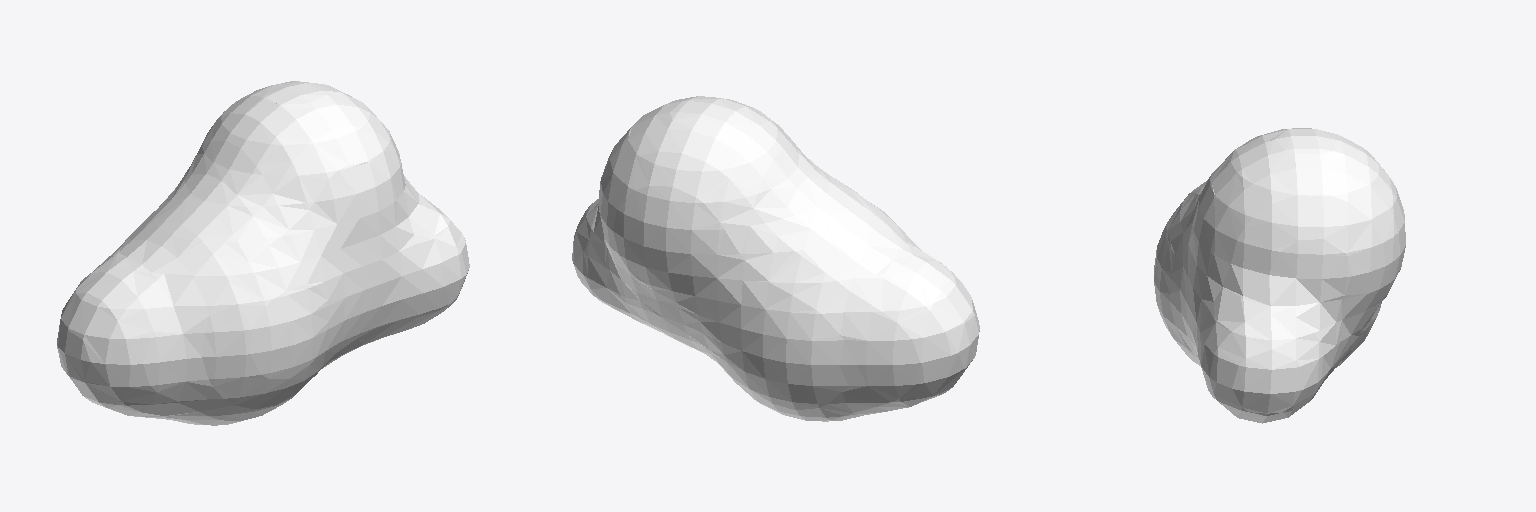
File: cloud1.obj
The picture shows the model from 3 angles: view 1: azimuth 30°, elevation 25°; view 2: azimuth 150°, elevation 25°; view 3: azimuth 270°, elevation 25°; orthographic projection.
Parts seen in each view (by area): view 1: cloud1; view 2: cloud1; view 3: cloud1.
Boxes of the visible parts, <box> form: cloud1: <box>57,81,469,425</box>; cloud1: <box>572,96,979,421</box>; cloud1: <box>1154,128,1405,423</box>.
Size of the model in its own units: 0.2638 by 0.1852 by 0.1467.